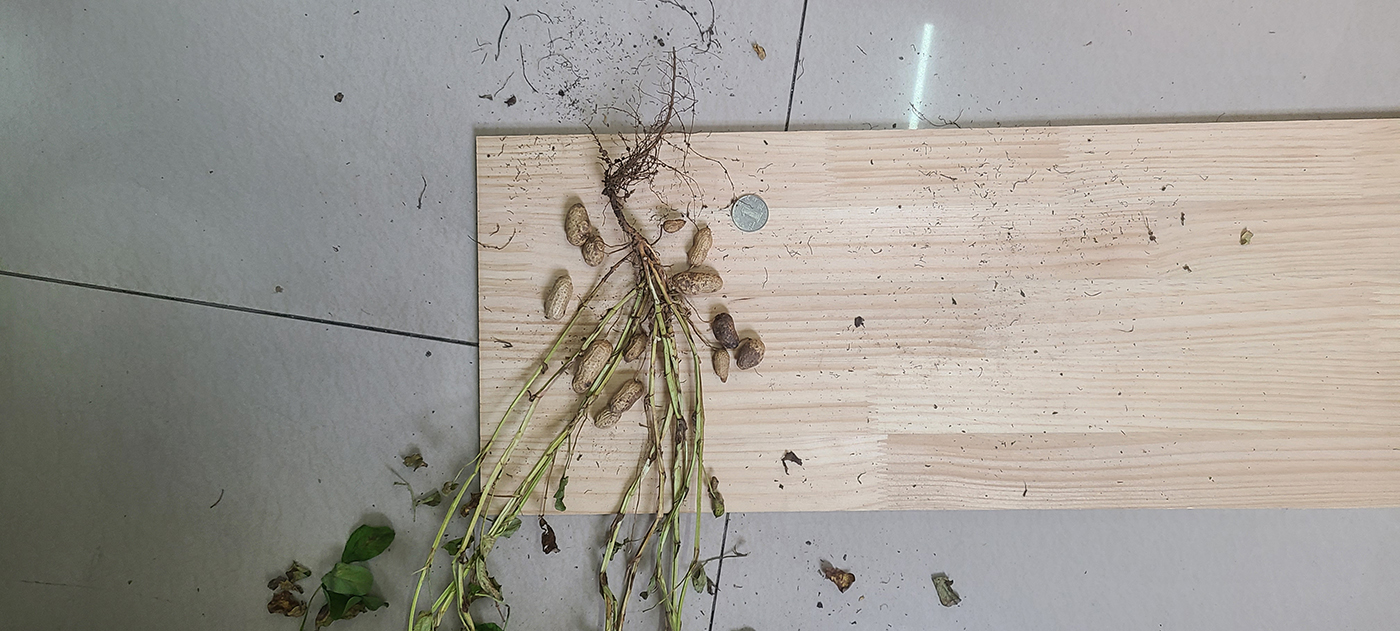h: (594, 380, 644, 429), (571, 342, 614, 395), (665, 270, 724, 297), (542, 276, 575, 321), (564, 204, 591, 246), (686, 226, 713, 267), (623, 331, 648, 362), (582, 235, 604, 264), (712, 349, 730, 383)
l: (711, 315, 740, 349), (736, 340, 766, 369)
